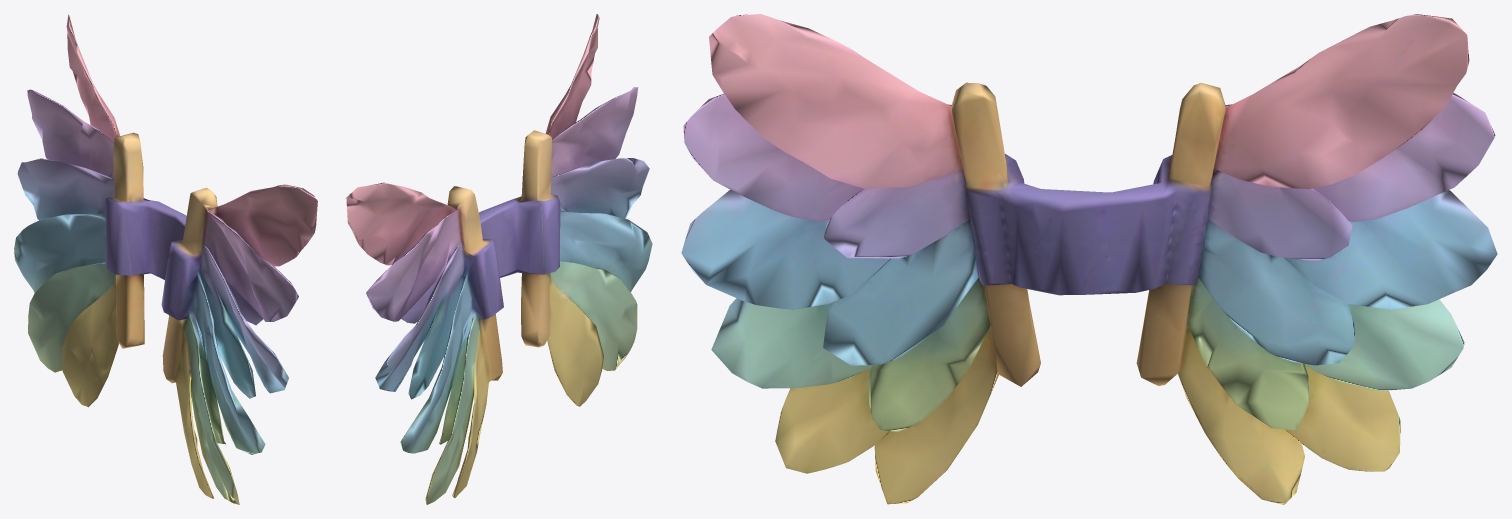
File: wings.glb
3 renders of one model, left to right at view 1: azimuth 30°, elevation 25°; view 2: azimuth 150°, elevation 25°; view 3: azimuth 270°, elevation 25°, orthographic. The views are drawn at different scales.
Parts seen in each view (by area): view 1: tripo_node_4d97fa73-b308-4f1d-8933-b71b5ba713c4; view 2: tripo_node_4d97fa73-b308-4f1d-8933-b71b5ba713c4; view 3: tripo_node_4d97fa73-b308-4f1d-8933-b71b5ba713c4.
Boxes of the visible parts, left/top/right/bottom form: tripo_node_4d97fa73-b308-4f1d-8933-b71b5ba713c4: left=14, top=14, right=317, bottom=504; tripo_node_4d97fa73-b308-4f1d-8933-b71b5ba713c4: left=346, top=14, right=652, bottom=504; tripo_node_4d97fa73-b308-4f1d-8933-b71b5ba713c4: left=681, top=14, right=1497, bottom=504.
Bounding box in the file's own units: 0.1578 × 0.6995 × 1.
Materials: 1 (1 with a texture image).
